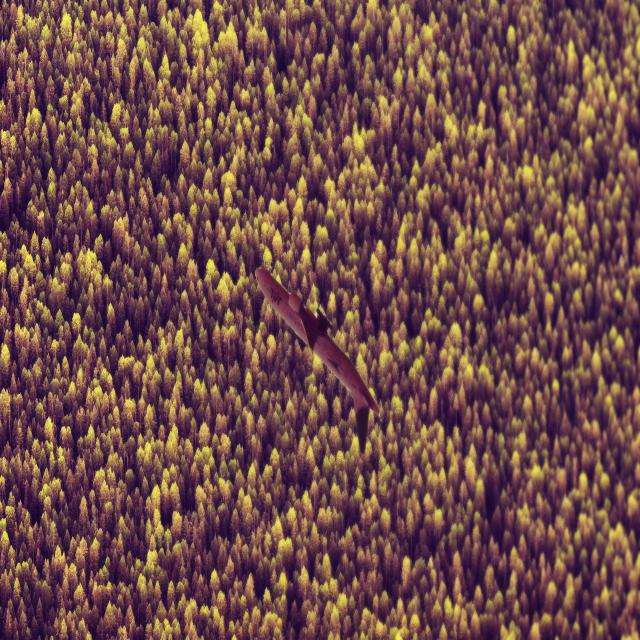airplane: (254, 265, 381, 454)
